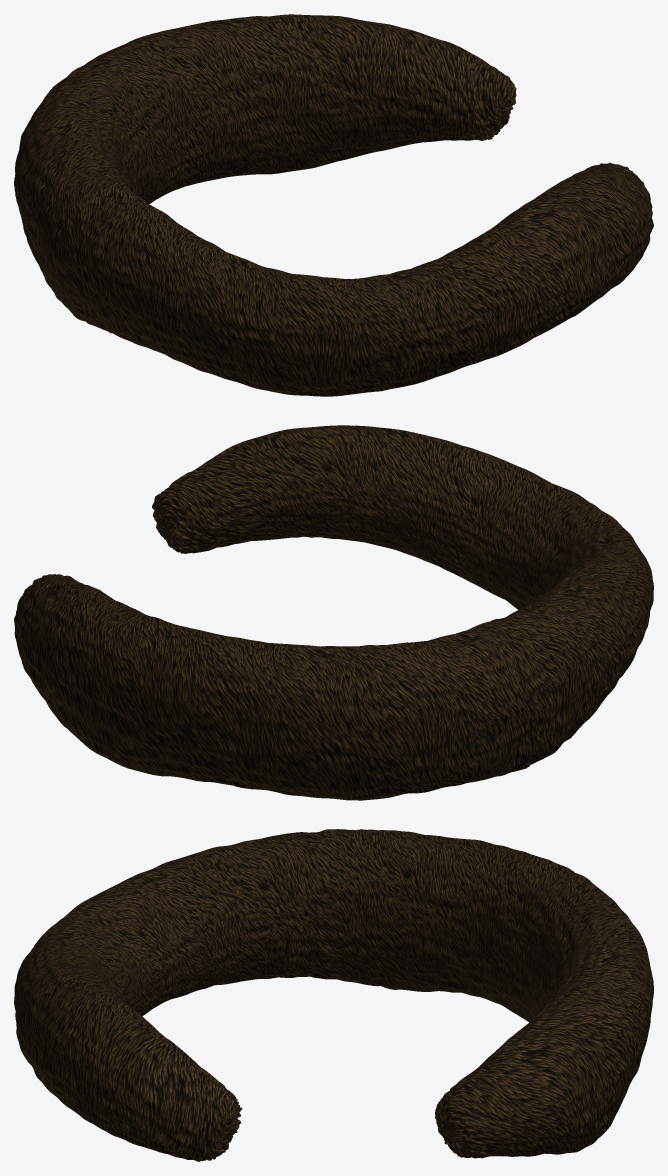
File: Viking fur.glb
3 renders of one model, top to bottom at view 1: azimuth 30°, elevation 25°; view 2: azimuth 150°, elevation 25°; view 3: azimuth 270°, elevation 25°, orthographic.
Visible parts, largest first — view 1: Viking Fur; view 2: Viking Fur; view 3: Viking Fur.
Part boxes in pixels (x1=…): Viking Fur: x1=14, y1=14, x2=653, y2=396; Viking Fur: x1=14, y1=425, x2=653, y2=800; Viking Fur: x1=14, y1=829, x2=653, y2=1161.
Size of the model in its own units: 0.7547 by 0.218 by 0.8124.
Materials: 1 (1 with a texture image).
